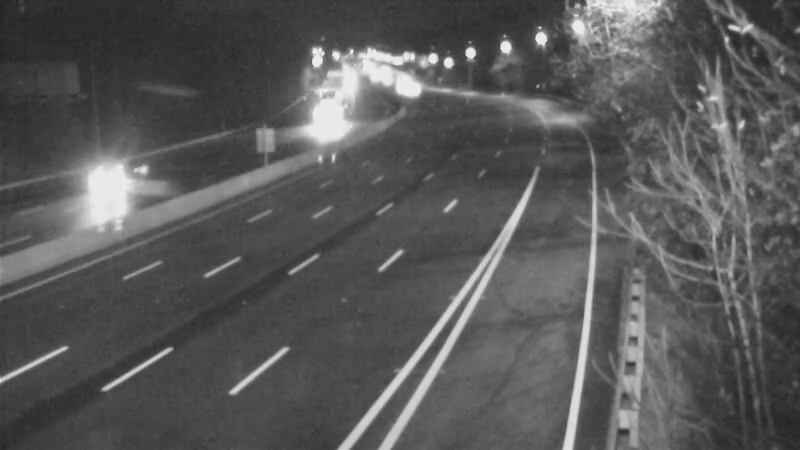vehicle: (66, 142, 146, 222), (388, 67, 438, 117), (294, 93, 344, 143)
